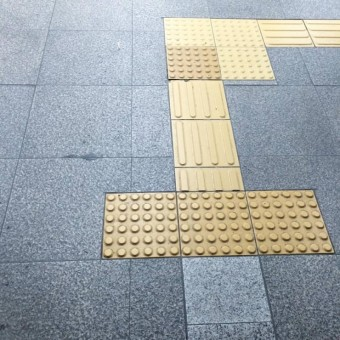guideBlock: (165, 120, 241, 167), (167, 165, 249, 193), (166, 82, 232, 114), (257, 19, 317, 47), (309, 18, 340, 49)
warningBlock: (175, 184, 254, 258), (101, 188, 184, 256), (252, 194, 335, 254), (168, 43, 227, 79), (219, 45, 269, 82), (209, 21, 262, 49), (164, 18, 211, 45)
